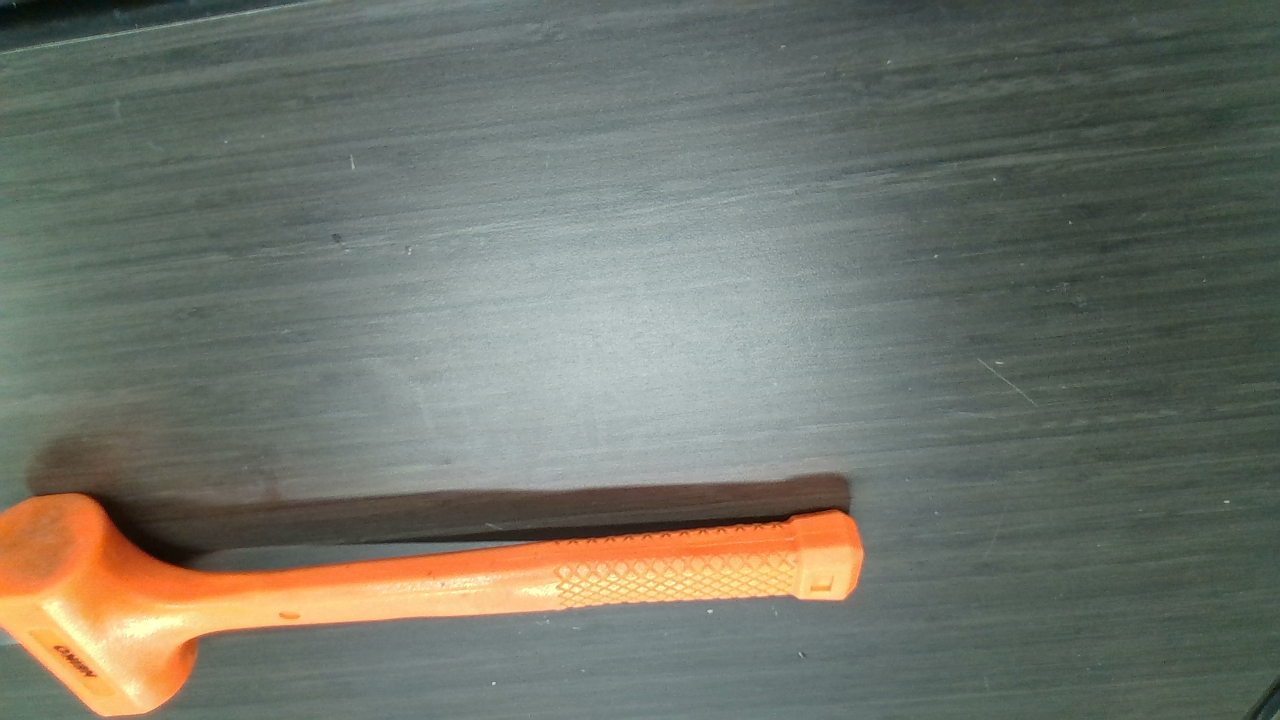Orange Hammer: (4, 492, 856, 712)
